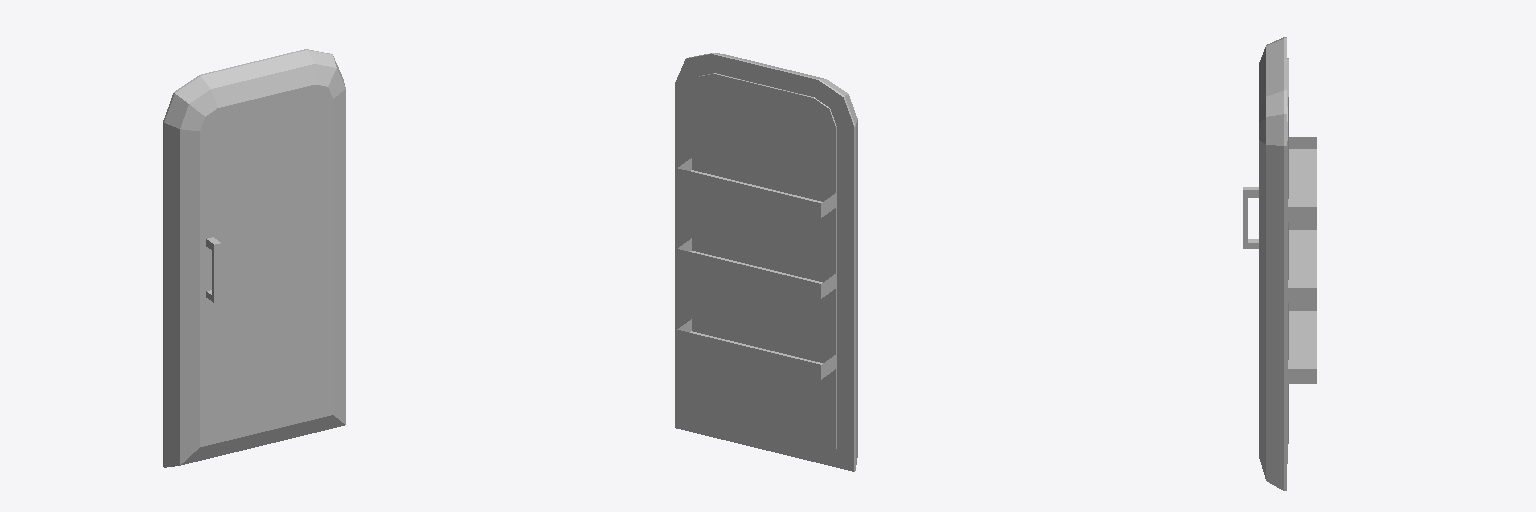
Rendered from fridge_door.obj.
The picture shows the model from 3 angles: view 1: azimuth 30°, elevation 25°; view 2: azimuth 150°, elevation 25°; view 3: azimuth 270°, elevation 25°; orthographic projection.
Visible parts, largest first — view 1: fridge_door; view 2: fridge_door; view 3: fridge_door.
Part boxes in pixels (bbox=[...]): fridge_door: bbox=[163, 49, 345, 467]; fridge_door: bbox=[675, 53, 857, 471]; fridge_door: bbox=[1243, 37, 1316, 490].
Bounding box in the file's own units: 0.9146 × 1.87 × 0.3296.